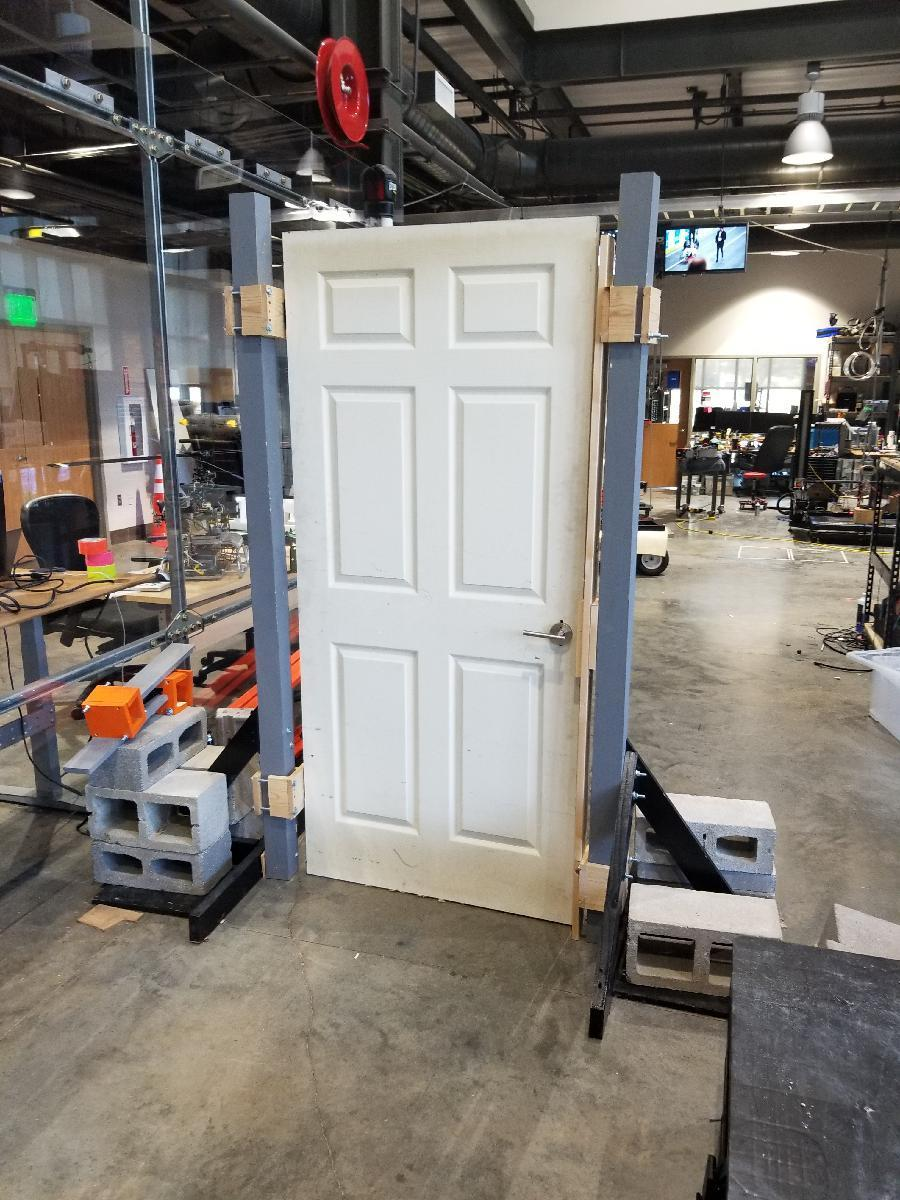door: (280, 228, 600, 911)
handle: (520, 619, 574, 652)
